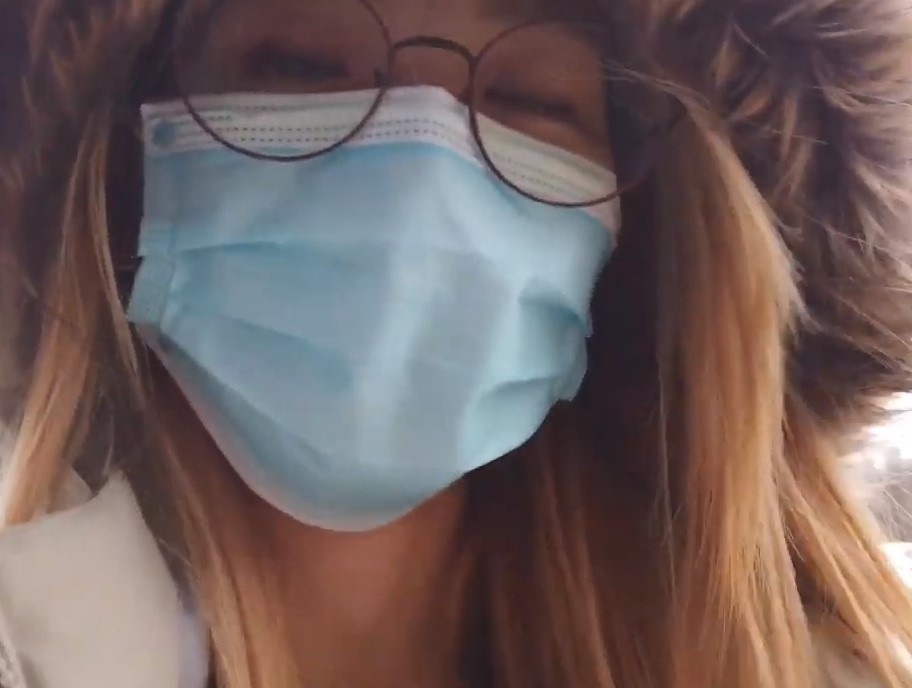face_with_mask: (94, 6, 704, 541)
